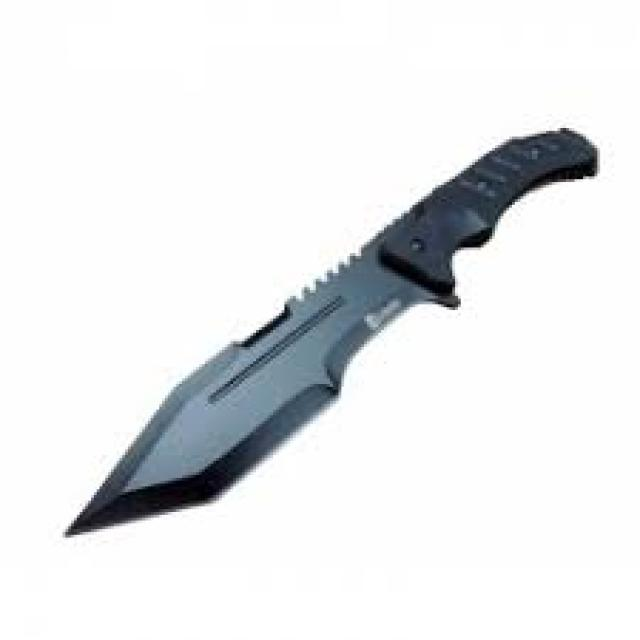knife: (60, 117, 610, 554)
